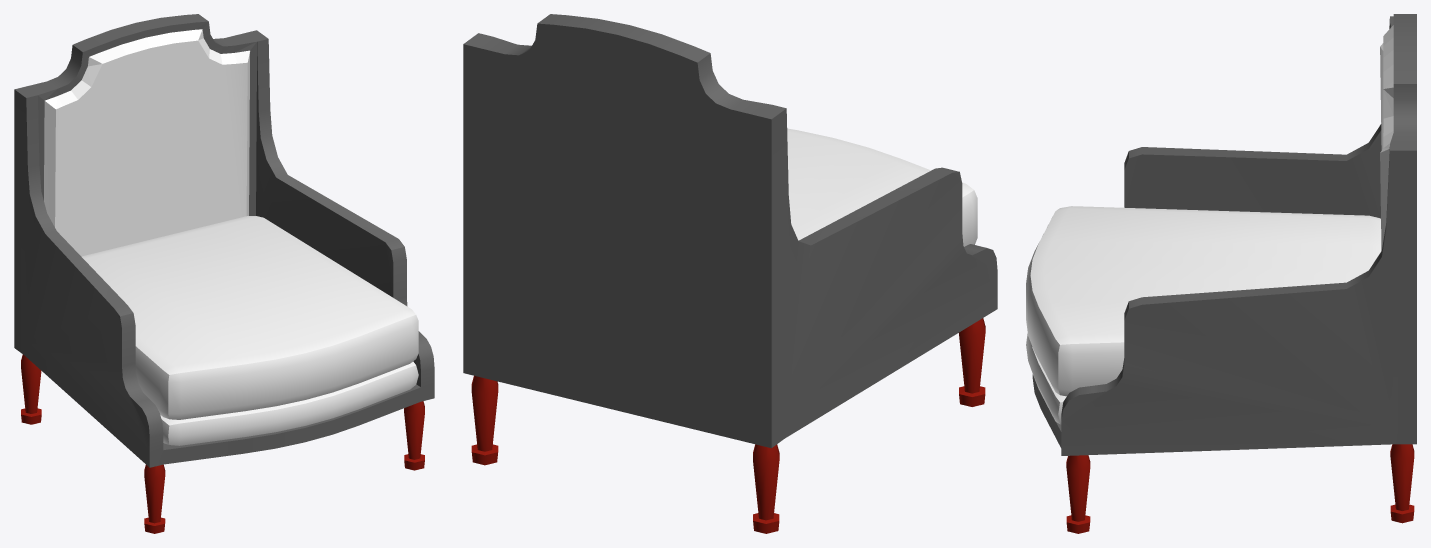
File: SM_Armchair_02.fbx
3 views of the same model, side by side, from view 1: azimuth 30°, elevation 25°; view 2: azimuth 150°, elevation 25°; view 3: azimuth 270°, elevation 25° (orthographic). The views are drawn at different scales.
Visible parts, largest first — view 1: SM_Armchair_02; view 2: SM_Armchair_02; view 3: SM_Armchair_02.
Part boxes in pixels (left/top/right/bottom): SM_Armchair_02: left=14, top=14, right=434, bottom=533; SM_Armchair_02: left=463, top=14, right=997, bottom=533; SM_Armchair_02: left=1026, top=14, right=1416, bottom=533.
Bounding box in the file's own units: 38.03 × 46.65 × 39.81.
